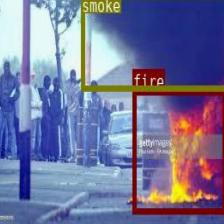fire: (131, 88, 224, 212)
smoke: (80, 0, 224, 89)
